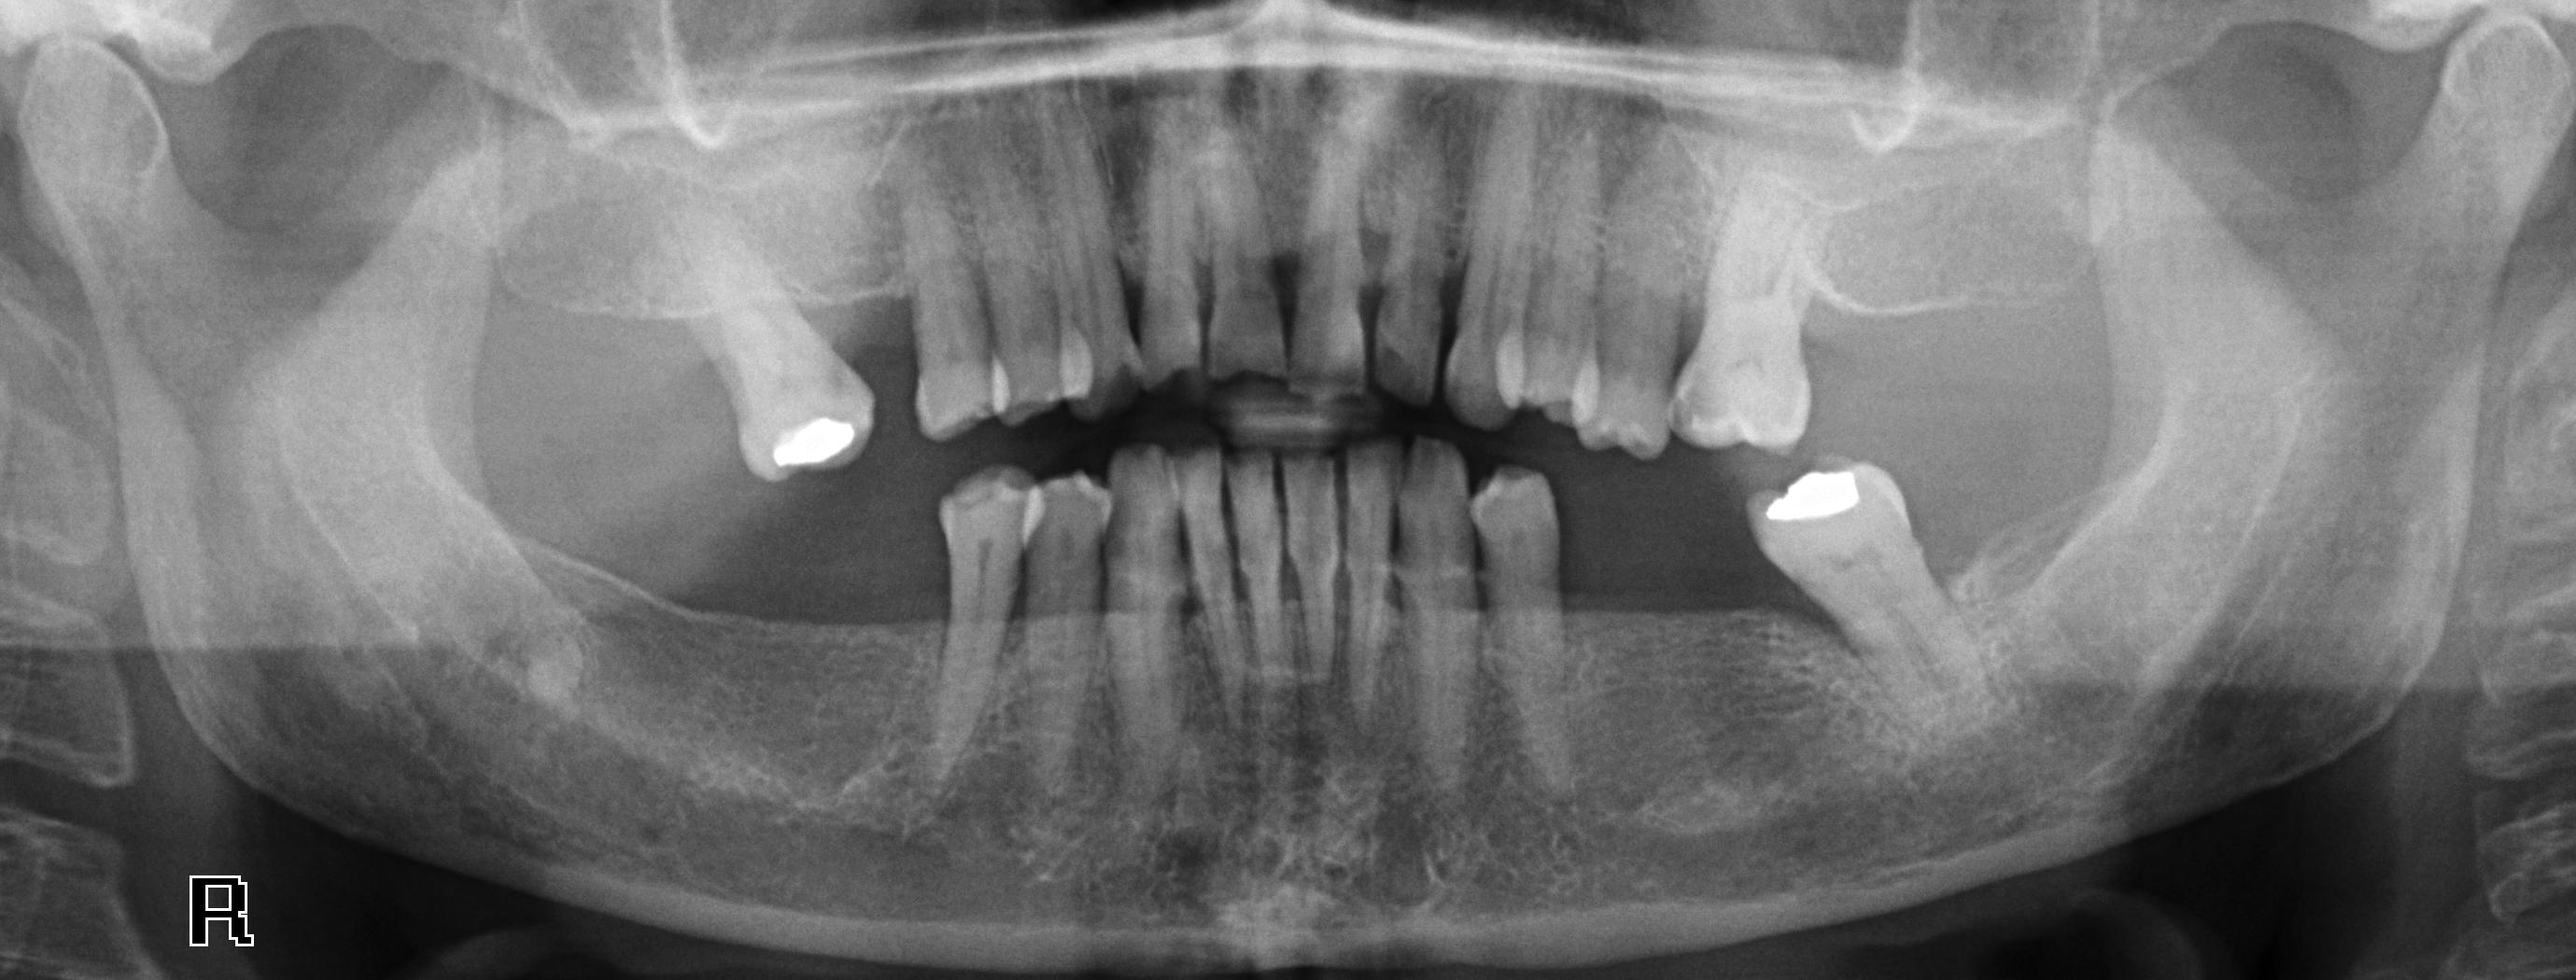Çürük: (1755, 466, 1871, 534), (746, 410, 867, 473)
Çürük Bölgesi: (1387, 440, 1444, 512), (1666, 391, 1689, 445)
